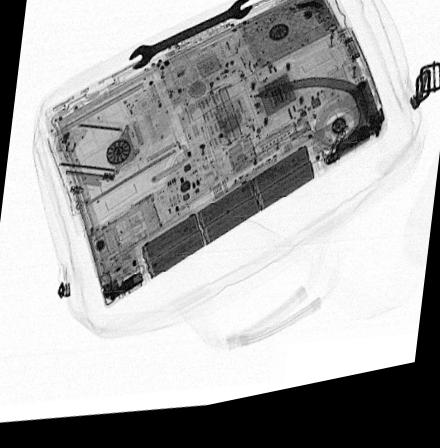Wrench: (126, 7, 253, 75)
